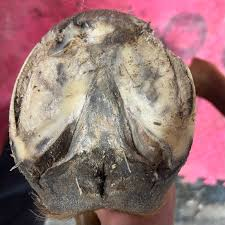horsesole: (8, 9, 195, 177)
